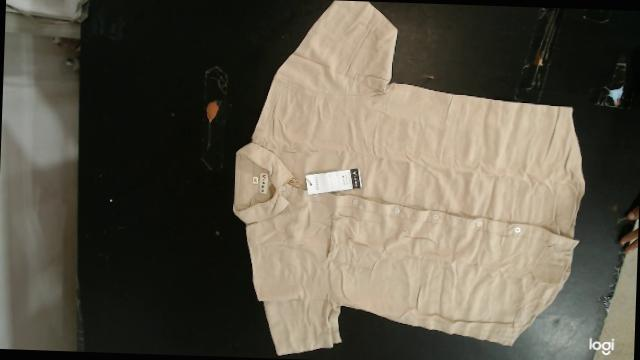new-garment: (233, 0, 585, 355)
